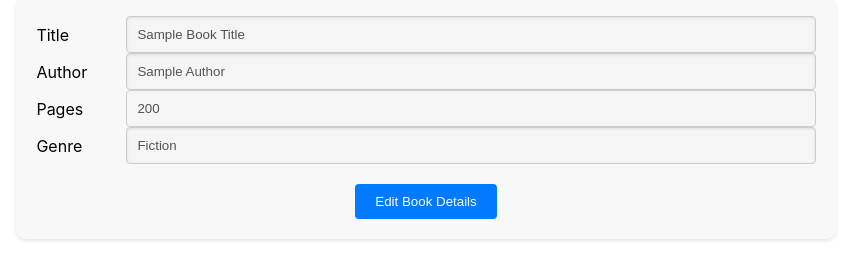
Test: BookDetailsCard › edits BookDetailsCard and submits changes
Click the button "Edit Book Details". click: point(426, 202)
box: [355, 184, 497, 219]
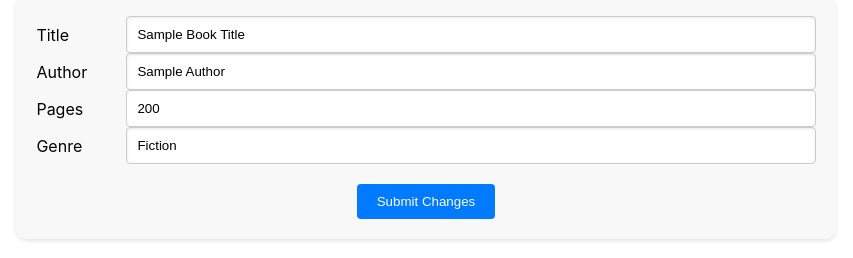
Replace the text in the field labelled "Title" with "New Title". click: point(471, 34)
box: [126, 16, 816, 53]
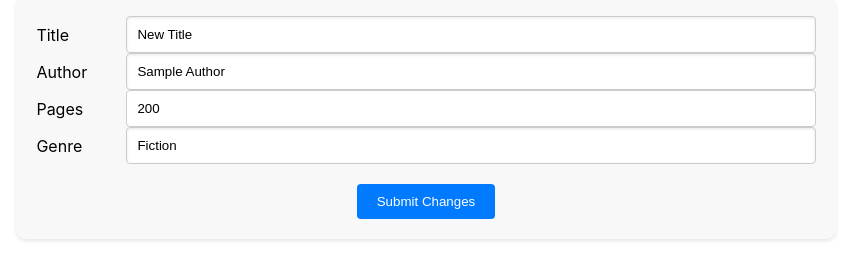
Replace the text in the field labelled "Author" with "New Author". click: point(471, 72)
box: [126, 53, 816, 90]
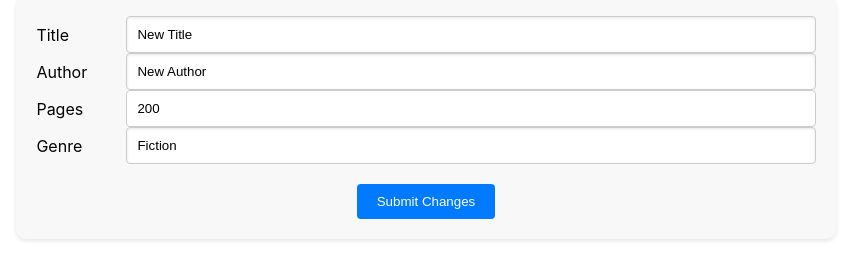
Replace the text in the number field labelled "Pages" with "300". click: point(471, 108)
box: [126, 90, 816, 127]
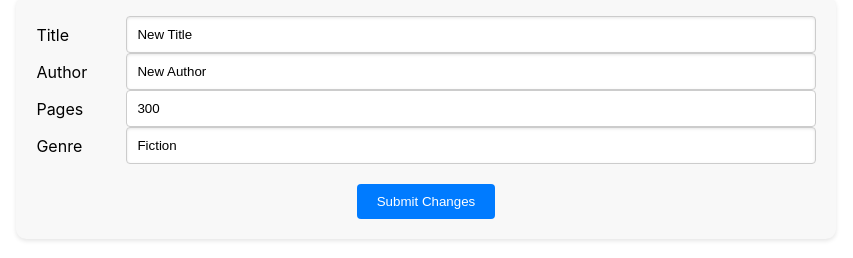
Replace the text in the field labelled "Genre" with "New Genre". click: point(471, 146)
box: [126, 127, 816, 164]
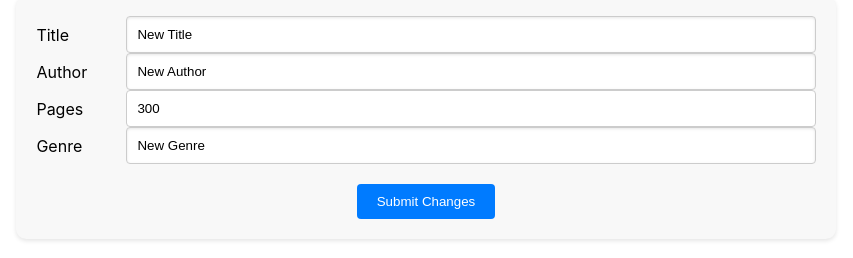
Click the button "Submit Changes". click: point(426, 202)
box: [357, 184, 495, 219]
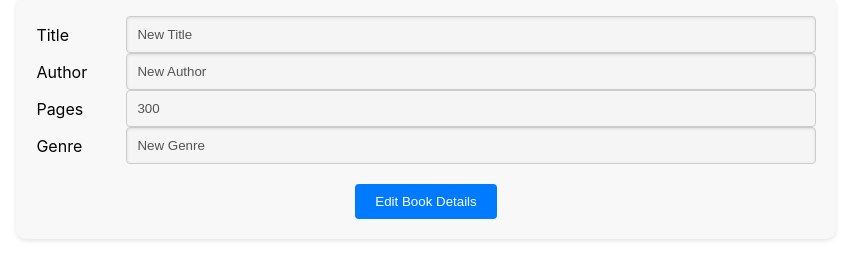
expect the button "Edit Book Details" is shown: met, box [355, 184, 497, 219]
